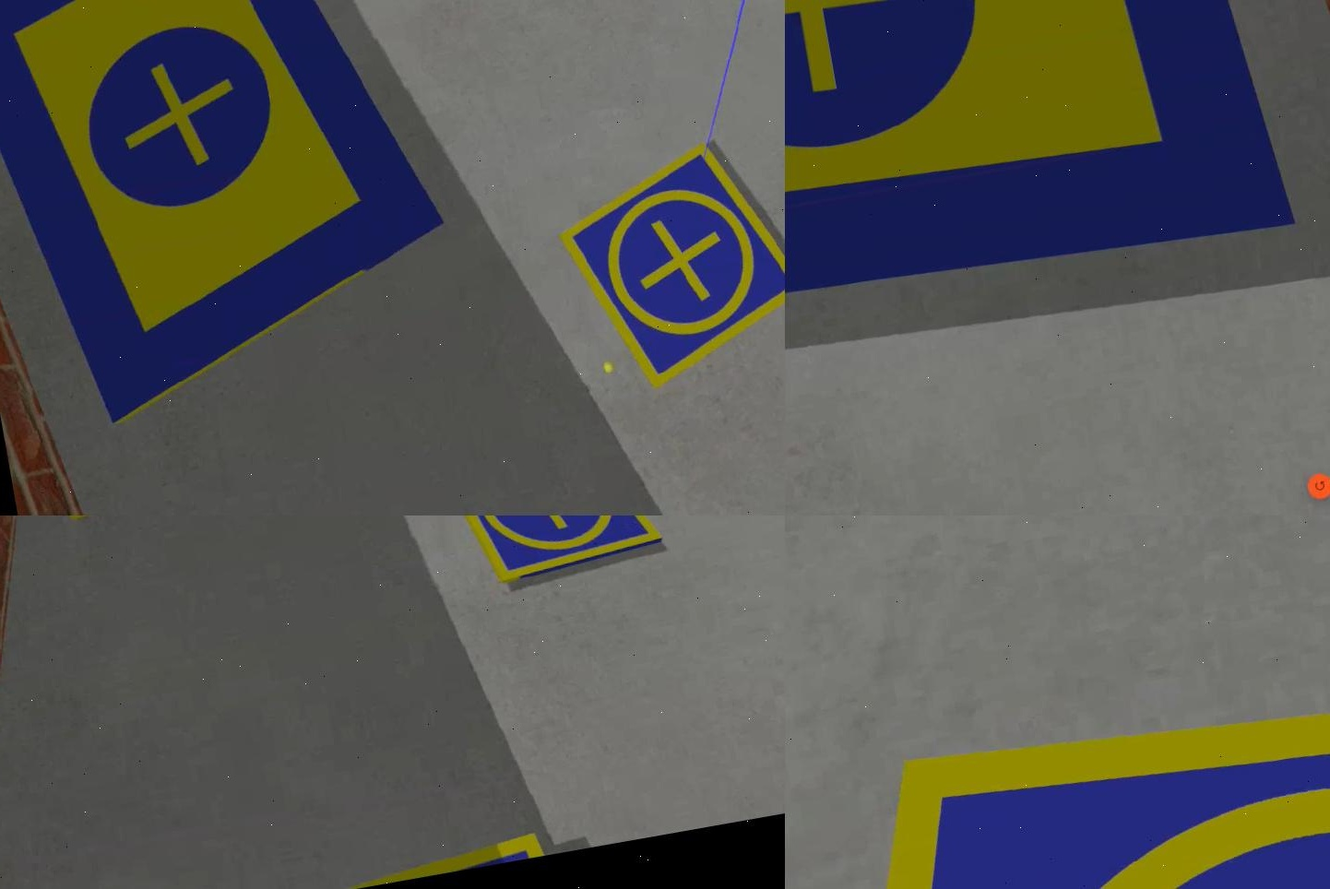large_base: (0, 1, 472, 439), (783, 1, 1293, 378)
small_base: (783, 591, 1328, 889), (546, 133, 783, 398), (433, 516, 667, 597)
